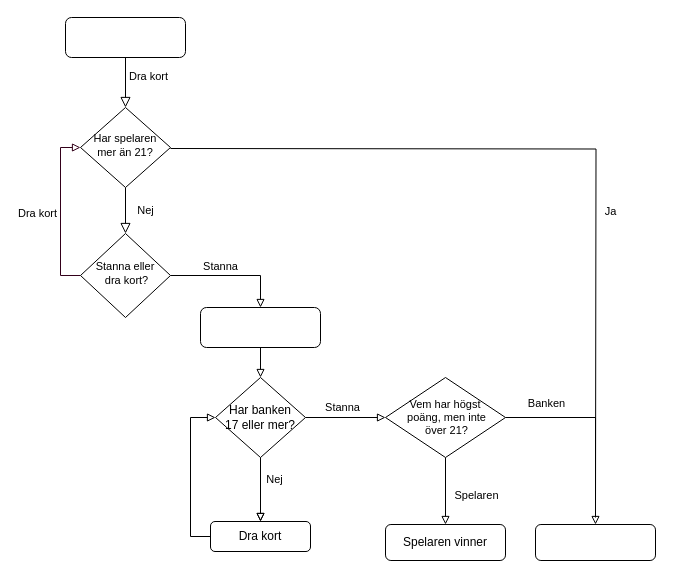
This 673x578 diagram has some shape labels left out. Here are the shapes that lost their labels. From the top down, the centre of each, then its label:
At (125,37): "Spelares tur".
At (260,327): "Bankens tur".
At (595,542): "Banken vinner".
